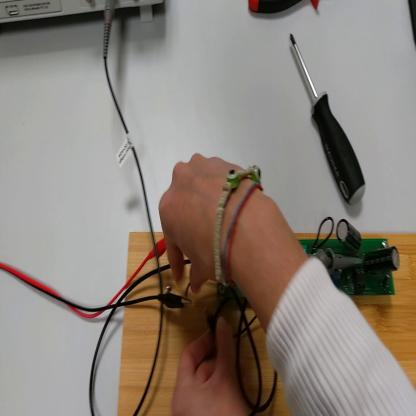hand: (159, 151, 259, 295), (173, 313, 248, 415)
high voltage board: (187, 218, 402, 303)
oscilloscope: (2, 1, 169, 40)
pliers: (249, 1, 306, 19)
screwdriver-: (291, 31, 367, 210)
working area: (122, 228, 416, 415)
